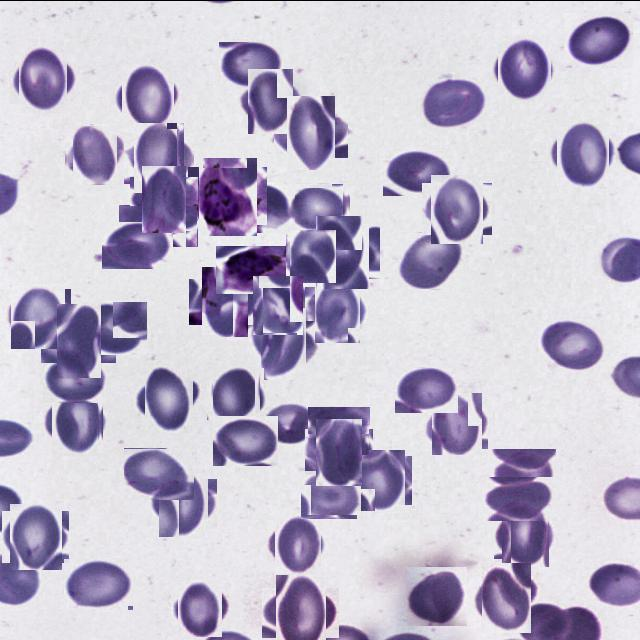red blood cell: (310, 220, 374, 283), (562, 12, 632, 67), (280, 102, 342, 164), (269, 580, 333, 640), (128, 128, 190, 188), (124, 447, 195, 499), (5, 506, 66, 566), (427, 178, 488, 238), (64, 557, 134, 609), (398, 232, 463, 288), (81, 300, 148, 354), (494, 38, 554, 98), (8, 285, 68, 345), (139, 368, 199, 428), (477, 567, 537, 627), (48, 310, 108, 370), (407, 566, 467, 625), (254, 314, 314, 372), (422, 77, 486, 131), (538, 319, 604, 371), (48, 393, 106, 452), (553, 124, 612, 182), (14, 49, 72, 108), (154, 473, 212, 532), (118, 67, 176, 125), (310, 422, 368, 480), (489, 448, 556, 498), (481, 476, 557, 520), (102, 221, 173, 268), (119, 204, 198, 246), (428, 394, 485, 452), (196, 272, 253, 330), (213, 415, 278, 465), (383, 150, 454, 195), (136, 170, 192, 227), (498, 506, 554, 562), (310, 281, 366, 337), (234, 181, 295, 232), (250, 277, 306, 332), (354, 452, 409, 507), (270, 516, 326, 570), (301, 469, 362, 518), (308, 406, 370, 454), (243, 74, 298, 128), (219, 40, 283, 86), (289, 182, 350, 229), (210, 368, 263, 422), (395, 367, 458, 412), (69, 127, 122, 180), (43, 358, 106, 402), (174, 582, 226, 632), (262, 400, 321, 444), (288, 230, 338, 280)
schizont: (194, 162, 262, 230)
trophozoite: (216, 245, 294, 293)
